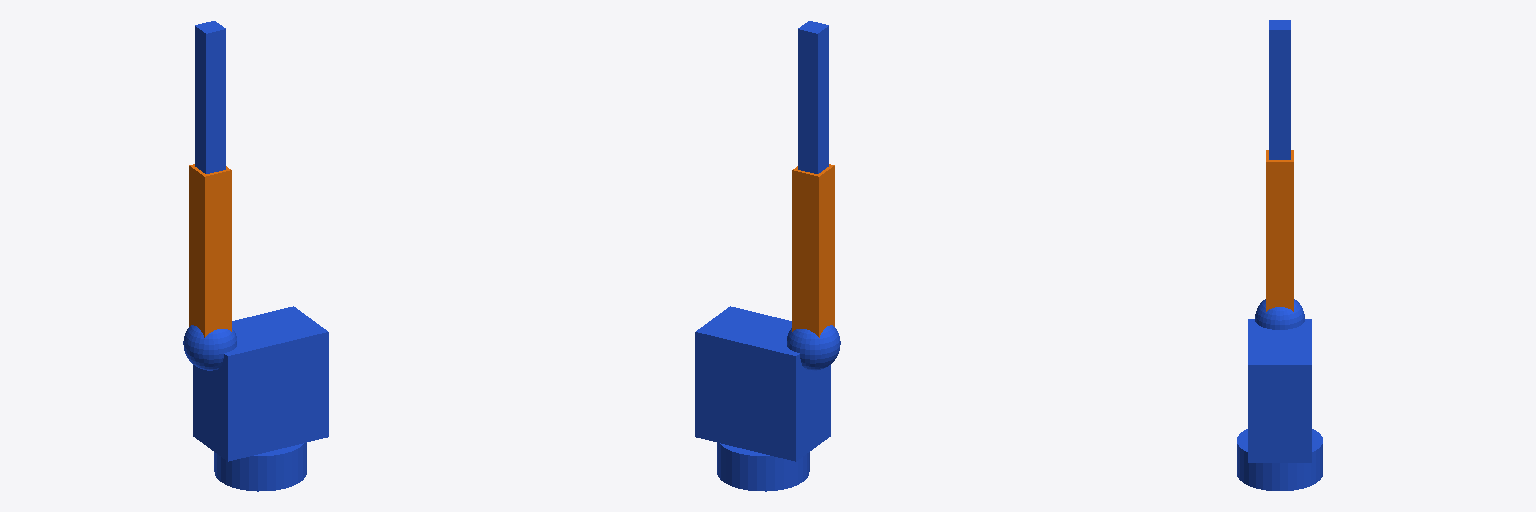
URDF robot description (robot_arm):
<?xml version="1.0"?>
<robot name="robot_arm">

  <material name="blue">
    <color rgba="0.2 0.4 0.9 1"/>
  </material>

  <material name="orange">
    <color rgba="0.95 0.5 0.1 1"/>
  </material>

  <link name="base_link">
    <visual>
      <geometry>
        <cylinder radius="0.12" length="0.1"/>
      </geometry>
      <material name="blue"/>
    </visual>
  </link>



  <!-- Torso rotates around the vertical Z-axis -->
  <joint name="torso_yaw_joint" type="revolute">
      <parent link="base_link"/>
      <child link="torso_link"/>
      <origin xyz="0 0 0.05" rpy="0 0 0"/>
      <axis xyz="0 0 1"/>
      <limit lower="-1.57" upper="1.57"
            effort="10" velocity="1"/>
  </joint>

  <!-- Simplified torso -->
  <link name="torso_link">
      <visual>
          <origin xyz="0 0 0.15"/>
          <geometry>
              <box size="0.3 0.18 0.3"/>
          </geometry>
          <material name="blue"/>
      </visual>
  </link>



  <!-- Shoulder rotation around vertical Z-axis -->
  <joint name="shoulder_yaw_joint" type="revolute">
      <parent link="torso_link"/>
      <child link="shoulder_link"/>
      <origin xyz="-0.15 0 0.30" rpy="0 0 0"/>
      <axis xyz="0 0 1"/>
      <limit lower="-3.14" upper="3.14" effort="10" velocity="1"/>
  </joint>

  <!-- Intermediate link connecting two shoulder joints -->
  <link name="shoulder_link">
      <visual>
          <geometry>
              <sphere radius="0.07"/>
          </geometry>
          <material name="blue"/>
      </visual>
  </link>

  <!-- Original shoulder pitch rotation -->
  <joint name="shoulder_joint" type="revolute">
      <parent link="shoulder_link"/>
      <child link="upper_arm"/>
      <origin xyz="0 0 0" rpy="0 0 0"/>
      <axis xyz="0 1 0"/>
      <limit lower="-1.57" upper="1.57" effort="10" velocity="1"/>
  </joint>

  <link name="upper_arm">
    <visual>
      <origin xyz="0 0 0.25"/>
      <geometry>
        <box size="0.08 0.08 0.5"/>
      </geometry>
      <material name="orange"/>
    </visual>
  </link>

  <joint name="elbow_joint" type="revolute">
    <parent link="upper_arm"/>
    <child link="forearm"/>
    <origin xyz="0 0 0.5" rpy="0 0 0"/>
    <axis xyz="0 1 0"/>
    <limit lower="-2.8" upper="2.8" effort="10" velocity="1"/>
  </joint>

  <link name="forearm">
    <visual>
      <origin xyz="0 0 0.2"/>
      <geometry>
        <box size="0.06 0.06 0.4"/>
      </geometry>
      <material name="blue"/>
    </visual>
  </link>

</robot>

--- What the picture shows (computed from the rendered views, not written in the file) ---
The picture shows the robot from 3 angles, left to right: view 1: azimuth 30°, elevation 25°; view 2: azimuth 150°, elevation 25°; view 3: azimuth 270°, elevation 25°; orthographic projection.
Model robot_arm with 5 links and 4 joints (4 revolute), rooted at base_link, posed every joint at zero.
Visible links, largest first — view 1: torso_link, upper_arm, forearm, base_link, shoulder_link; view 2: torso_link, upper_arm, forearm, base_link, shoulder_link; view 3: torso_link, upper_arm, forearm, base_link, shoulder_link.
Link boxes in pixels (<box>): torso_link: <box>193,306,328,461</box>; upper_arm: <box>189,164,231,337</box>; forearm: <box>195,21,225,173</box>; base_link: <box>214,443,306,491</box>; shoulder_link: <box>183,325,236,370</box>; torso_link: <box>695,306,830,461</box>; upper_arm: <box>792,164,834,337</box>; forearm: <box>798,21,828,173</box>; base_link: <box>717,443,809,491</box>; shoulder_link: <box>787,325,840,370</box>; torso_link: <box>1248,319,1311,462</box>; upper_arm: <box>1266,150,1293,311</box>; forearm: <box>1269,20,1290,159</box>; base_link: <box>1237,429,1322,490</box>; shoulder_link: <box>1255,299,1304,329</box>.
Size in the robot's own frame: 0.37 by 0.24 by 1.3 metres.
Geometry: primitives only (box / cylinder / sphere), no mesh files.
